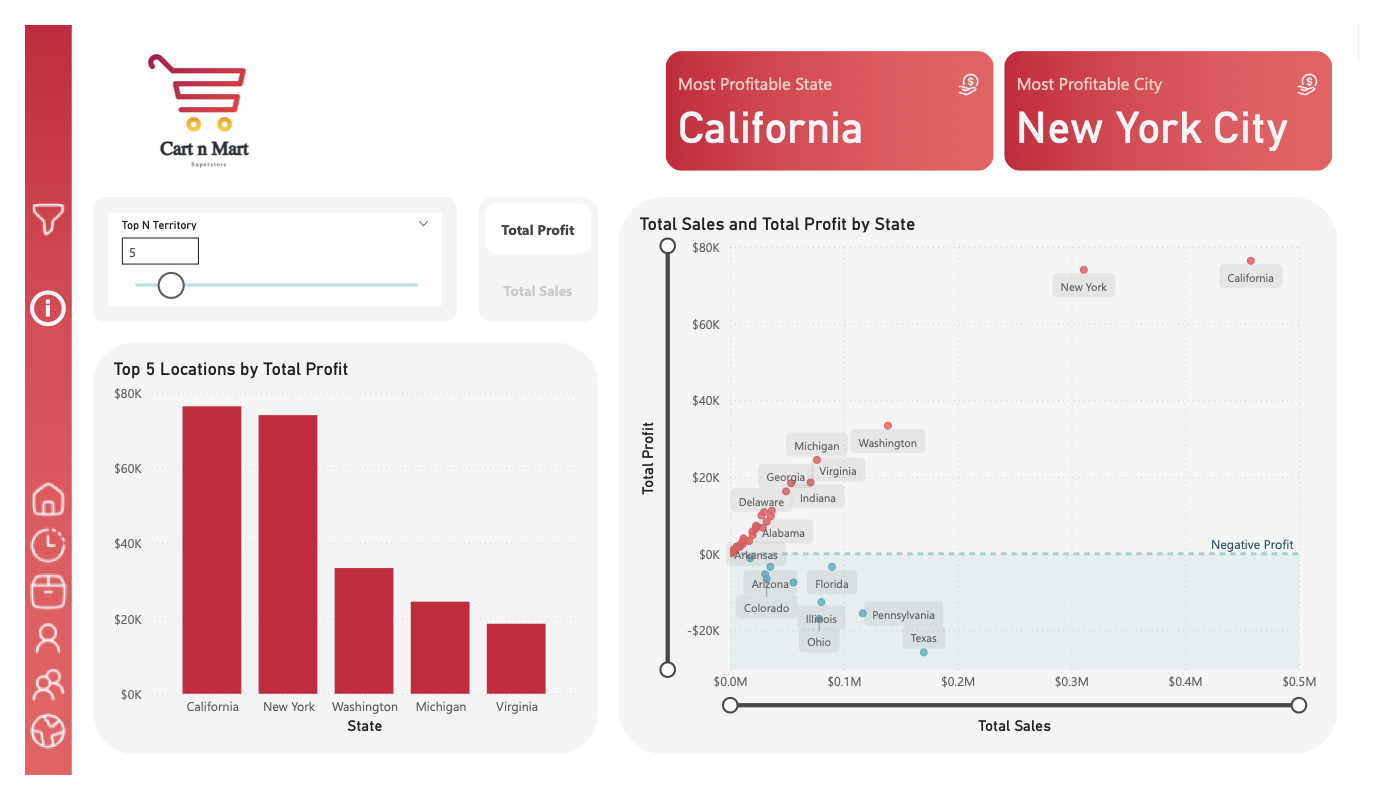

The page's visual inventory and layout, read from the dashboard file:
{"tool":"powerbi","page":{"name":"Territory","canvas":[1280,720],"ordinal":5},"visuals":[{"type":"cardVisual","title":"NavBar","fields":{"Data":["Measures Table.Dummy Title"]},"box":[0,0,45,720],"z":0,"group":"g6"},{"type":"image","box":[65.6,20,214,125],"z":0},{"type":"shape","title":"BG","box":[570,164.6,690,535.4],"z":0,"group":"g5"},{"type":"shape","title":"BG","box":[65.3,164.7,350,120],"z":0,"group":"g4"},{"type":"slicer","fields":{"Values":["KPI Measures Territory.KPI Measures Territory"]},"box":[487.1,218.6,12,12],"z":0,"group":"g1"},{"type":"shape","title":"BG","box":[65.4,304.6,485.4,395.4],"z":0,"group":"g3"},{"type":"actionButton","title":"Home Button","box":[0,432.6,44.6,44.6],"z":0,"group":"g2"},{"type":"group","id":"g1","title":"Slicer selector with BG","box":[435.4,164.6,115.4,120.8],"z":1000},{"type":"bookmarkNavigator","title":"Slicer selector","box":[435.4,164.6,115.3,120],"z":1000,"group":"g1"},{"type":"scatterChart","fields":{"X":["Measures Table.Total Sales"],"Y":["Measures Table.Total Profit"],"Category":["DimTerritory.State Hierarchy.State","DimTerritory.State Hierarchy.City"]},"box":[585.4,179.2,660,505.4],"z":1000,"group":"g5"},{"type":"slicer","fields":{"Values":["Top N Territory.Top N Territory"]},"box":[80.3,179.7,320,90],"z":1000,"group":"g4"},{"type":"clusteredColumnChart","fields":{"Y":["Measures Table.Top N Profit"],"Category":["DimTerritory.State Hierarchy.State","DimTerritory.State Hierarchy.City"]},"box":[80.8,319.2,455.4,365.4],"z":1000,"group":"g3"},{"type":"group","id":"g2","title":"NavBar Buttons","box":[0,432.6,44.6,267.4],"z":1000,"group":"g6"},{"type":"actionButton","title":"Time Button","box":[0,477.2,44.6,44.6],"z":1000,"group":"g2"},{"type":"actionButton","title":"Filter Button","box":[0,164.1,44.6,44.6],"z":2000,"group":"g6"},{"type":"actionButton","title":"Products Button","box":[0,521.7,44.6,44.6],"z":2000,"group":"g2"},{"type":"cardVisual","title":"KPIs","fields":{"Data":["Min(DimTerritory.State)"]},"box":[609.8,19.6,325,125],"z":3000},{"type":"actionButton","title":"Customers Button","box":[0,566.3,44.6,44.6],"z":3000,"group":"g2"},{"type":"cardVisual","title":"KPIs","fields":{"Data":["Min(DimTerritory.City)"]},"box":[934.8,19.6,325,125],"z":4000},{"type":"actionButton","title":"Customers RFM Button","box":[0,610.9,44.6,44.6],"z":4000,"group":"g2"},{"type":"group","id":"g3","title":"Top N Profit/Sales with BG","box":[65.4,304.6,485.4,395.4],"z":5000},{"type":"actionButton","title":"Territory Button","box":[0,655.4,44.6,44.6],"z":5000,"group":"g2"},{"type":"group","id":"g4","title":"Slicer with BG","box":[65.3,164.7,350,120],"z":6000},{"type":"group","id":"g5","title":"Total Sales and Total Profit by State with BG","box":[570,164.6,690,535.4],"z":7000},{"type":"group","id":"g6","title":"Navbar home","box":[0,0,45.7,719.6],"z":8000},{"type":"actionButton","title":"Slicers warning","box":[0,250,44,44],"z":8500}]}

Visuals, with their boxes in screenshot pixels (x1, y1, x2, y2), scaled from the page's 1280x720 canvas onto the 1383x800 screenshot:
"NavBar" cardVisual: [0, 0, 49, 799]
image: [71, 22, 302, 161]
"BG" shape: [616, 183, 1361, 778]
"BG" shape: [71, 183, 449, 316]
slicer - KPI Measures Territory.KPI Measures Territory: [526, 243, 539, 256]
"BG" shape: [71, 338, 595, 778]
"Home Button" actionButton: [0, 481, 48, 530]
"Slicer selector with BG" group: [470, 183, 595, 317]
"Slicer selector" bookmarkNavigator: [470, 183, 595, 316]
scatterChart - Measures Table.Total Sales x Measures Table.Total Profit: [633, 199, 1346, 761]
slicer - Top N Territory.Top N Territory: [87, 200, 433, 300]
clusteredColumnChart - Measures Table.Top N Profit x DimTerritory.State Hierarchy.State: [87, 355, 579, 761]
"NavBar Buttons" group: [0, 481, 48, 778]
"Time Button" actionButton: [0, 530, 48, 580]
"Filter Button" actionButton: [0, 182, 48, 232]
"Products Button" actionButton: [0, 580, 48, 629]
"KPIs" cardVisual: [659, 22, 1010, 161]
"Customers Button" actionButton: [0, 629, 48, 679]
"KPIs" cardVisual: [1010, 22, 1361, 161]
"Customers RFM Button" actionButton: [0, 679, 48, 728]
"Top N Profit/Sales with BG" group: [71, 338, 595, 778]
"Territory Button" actionButton: [0, 728, 48, 778]
"Slicer with BG" group: [71, 183, 449, 316]
"Total Sales and Total Profit by State with BG" group: [616, 183, 1361, 778]
"Navbar home" group: [0, 0, 49, 799]
"Slicers warning" actionButton: [0, 278, 48, 327]
